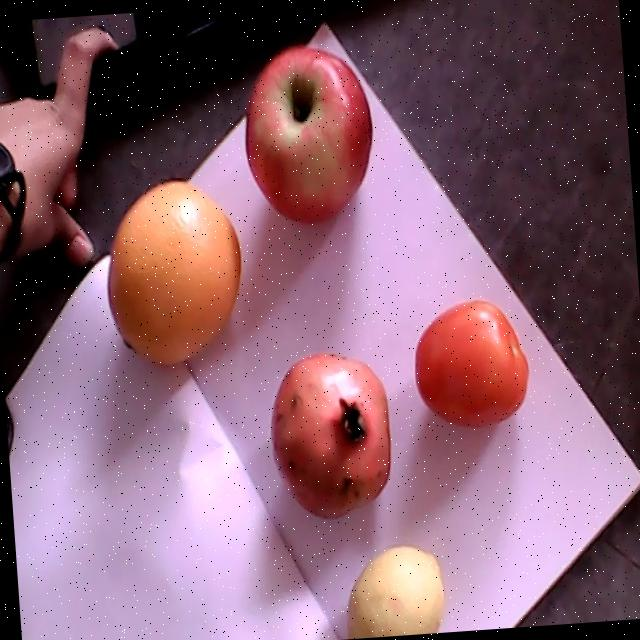apple: (246, 47, 372, 226)
lemon: (346, 545, 444, 637)
orange: (108, 180, 241, 364)
pomegranate: (270, 353, 390, 519)
tomato: (415, 300, 529, 427)
